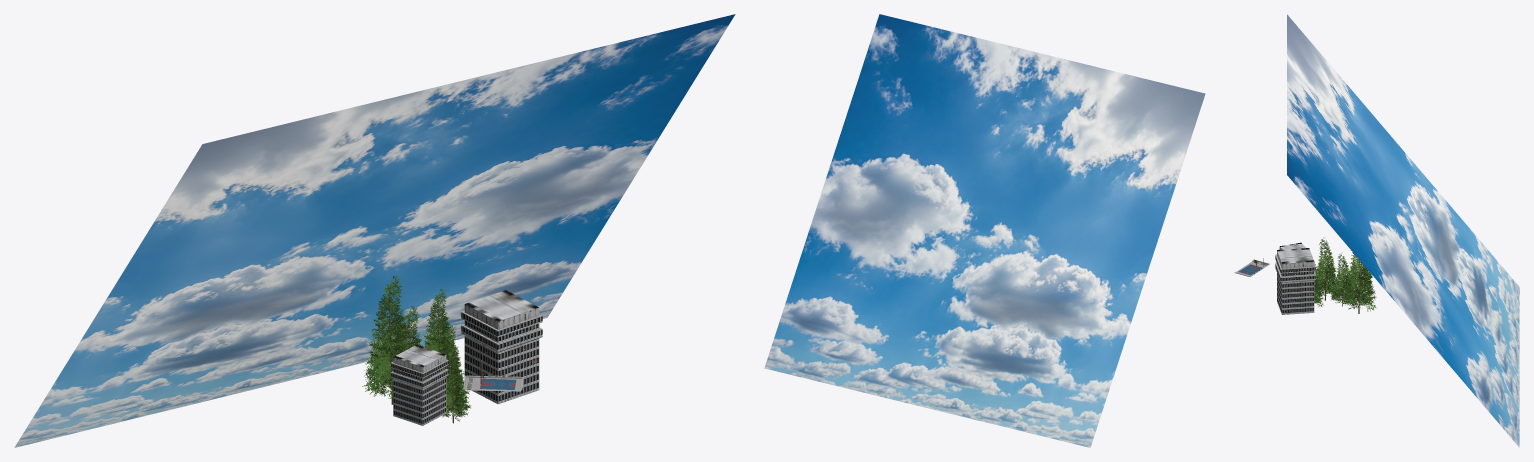
The model's file is IkemenCourts.glb.
3 renders of one model, left to right at view 1: azimuth 30°, elevation 25°; view 2: azimuth 150°, elevation 25°; view 3: azimuth 270°, elevation 25°, orthographic. The views are drawn at different scales.
Visible parts, largest first — view 1: Plane, Building Right, Building Left, tree.004, tree.003, tree.002, tree; view 2: Plane; view 3: Plane, Building Right, tree.004, tree, tree.002.
Part boxes in pixels (x1,y1,x2,y2): Plane: (14,14,735,447); Building Right: (461,290,542,404); Building Left: (391,344,448,425); tree.004: (362,275,410,404); tree.003: (442,345,471,423); tree.002: (423,289,460,359); tree: (387,306,423,401); Plane: (764,14,1205,447); Plane: (1287,14,1519,447); Building Right: (1275,248,1315,314); tree.004: (1342,252,1376,313); tree: (1315,237,1336,300); tree.002: (1330,254,1354,306).
Size of the model in its own units: 791 by 626 by 593.
Materials: 33 (28 with a texture image).
